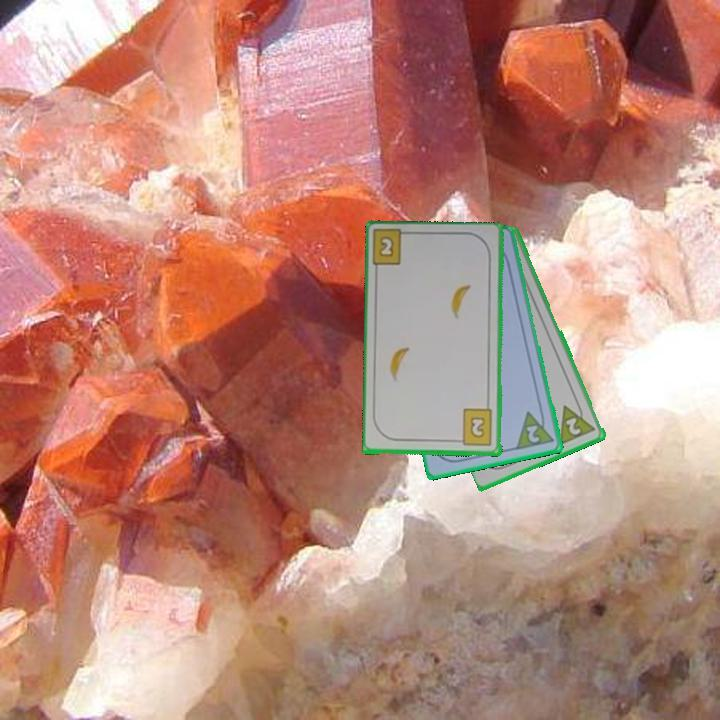2b: (453, 406, 495, 449), (375, 233, 397, 260)
2p: (556, 397, 599, 448), (513, 406, 557, 453)
